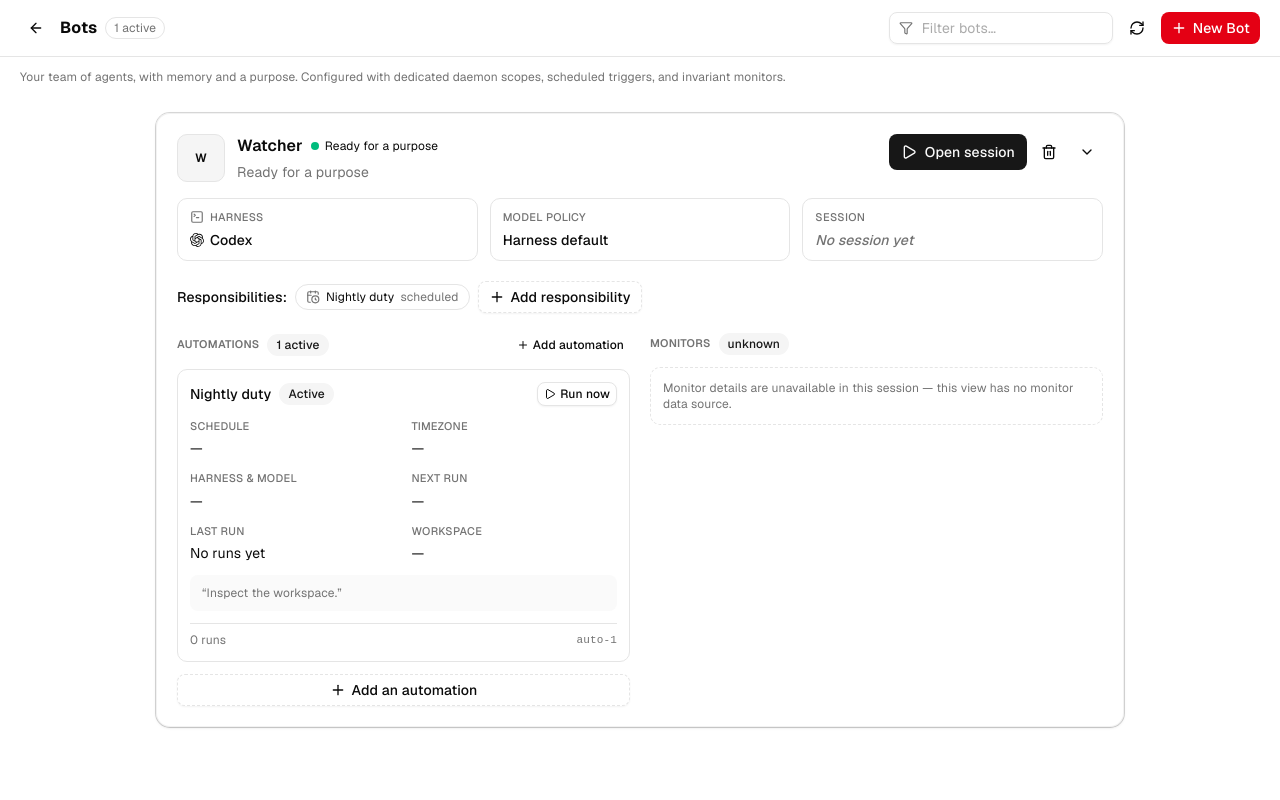
Scenario: use-bots-page-controller › surfaces a failed run as an alert instead of silence
Click the button with aria-label "Run Nightly duty".
click(577, 394)  # box [537,382,617,406]
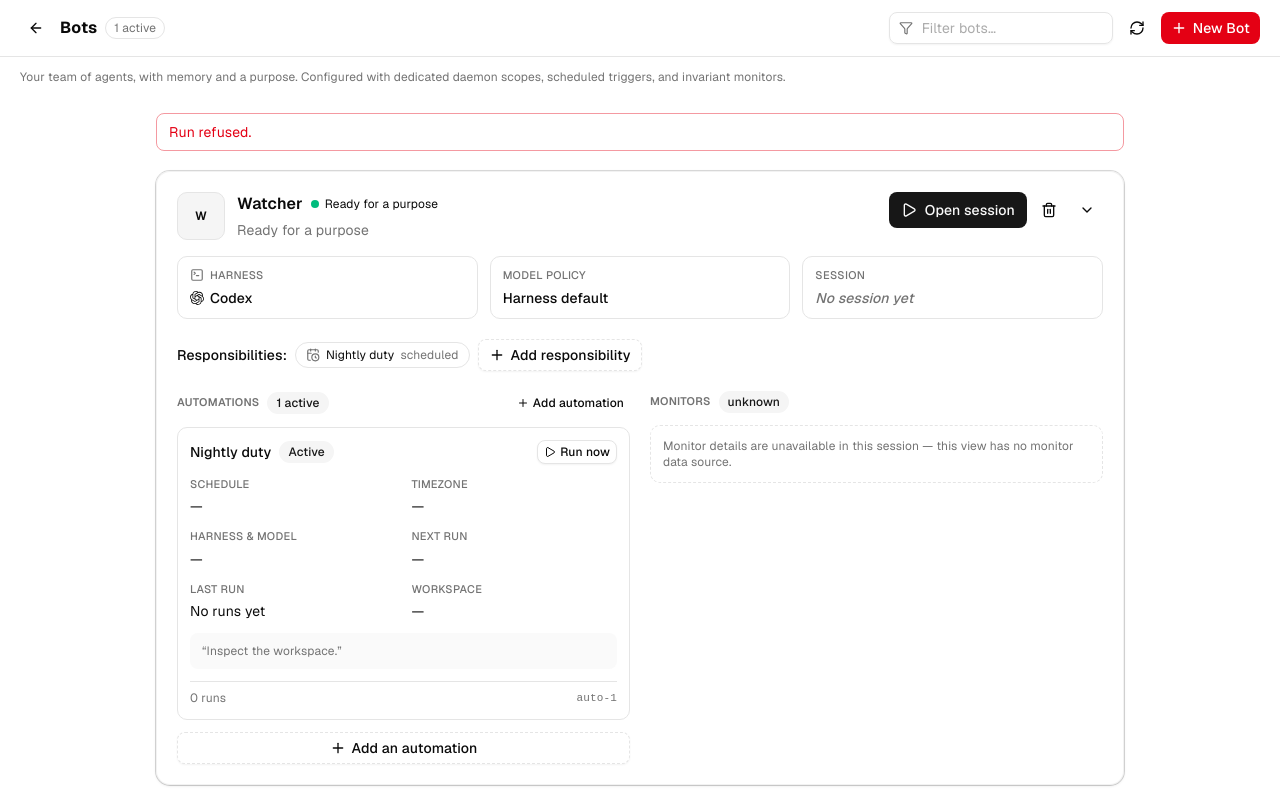
Expected: the message reads "Run refused.", [169,123,252,141]
